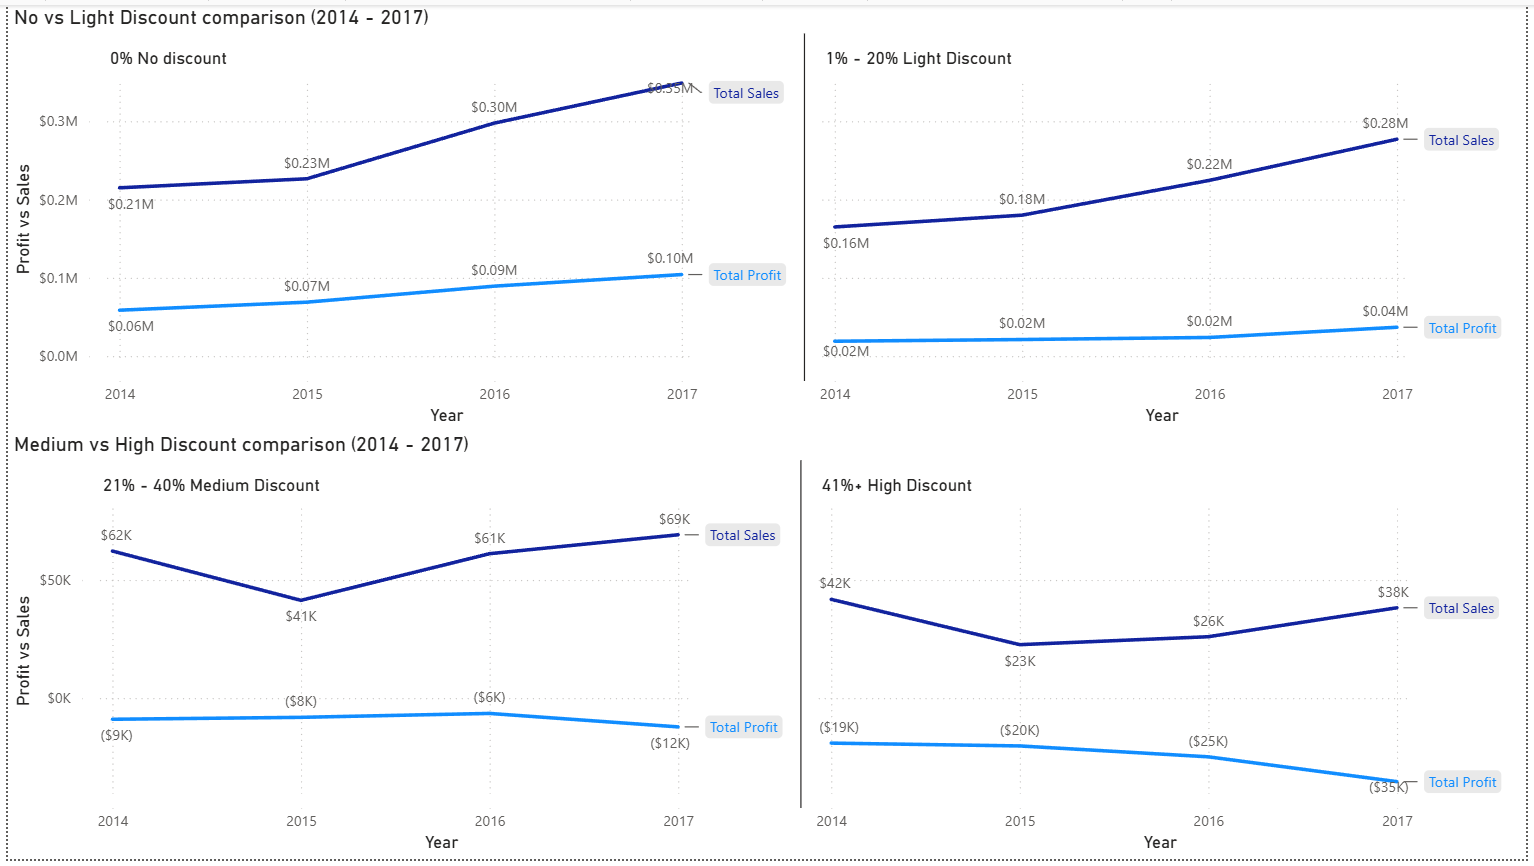

This screenshot's page, from the dashboard's own definition file:
{"tool":"powerbi","page":{"name":"Discount Impact","canvas":[1280,720],"ordinal":7},"visuals":[{"type":"lineChart","title":"No vs Light Discount comparison (2014 - 2017)","fields":{"Category":["RawData.Year"],"Y":["Sum(RawData.Profit)","Sum(RawData.Sales)"],"Rows":["RawData.Discount Bucket.1"]},"box":[0,0,1280,359.9],"z":0},{"type":"lineChart","title":"Medium vs High Discount comparison (2014 - 2017)","fields":{"Category":["RawData.Year"],"Y":["Sum(RawData.Profit)","Sum(RawData.Sales)"],"Rows":["RawData.Discount Bucket.1"]},"box":[0,359.9,1280,359.9],"z":1000}]}

Visuals, with their boxes in screenshot pixels (x1, y1, x2, y2), scaled from the page's 1280x720 canvas onto the 1534x866 screenshot:
"No vs Light Discount comparison (2014 - 2017)" lineChart: select_region(0, 0, 1533, 433)
"Medium vs High Discount comparison (2014 - 2017)" lineChart: select_region(0, 433, 1533, 865)
